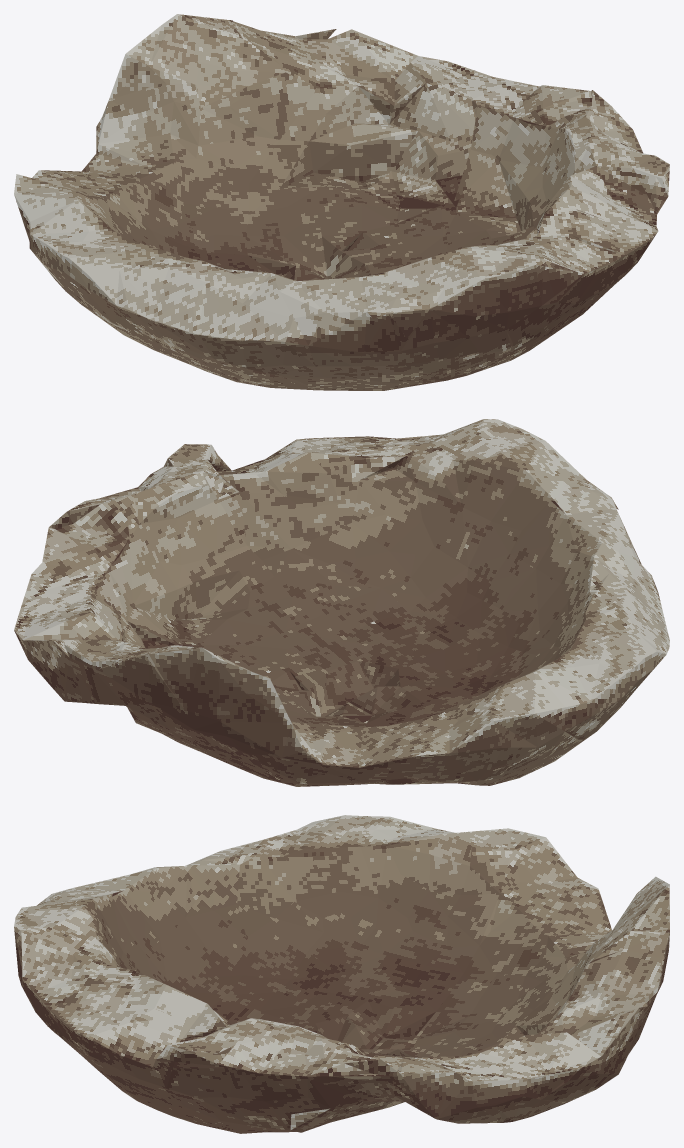
File: bowl.glb
The picture shows the model from 3 angles, top to bottom: view 1: azimuth 30°, elevation 25°; view 2: azimuth 150°, elevation 25°; view 3: azimuth 270°, elevation 25°; orthographic projection. The views are drawn at different scales.
Visible parts, largest first — view 1: model_m; view 2: model_m; view 3: model_m.
Boxes of the visible parts, x1,y1,x2,y2 form: model_m: (14,14,669,390); model_m: (14,419,669,786); model_m: (14,815,669,1133).
Size of the model in its own units: 25.85 by 8.14 by 26.28.
Materials: 1 (1 with a texture image).
